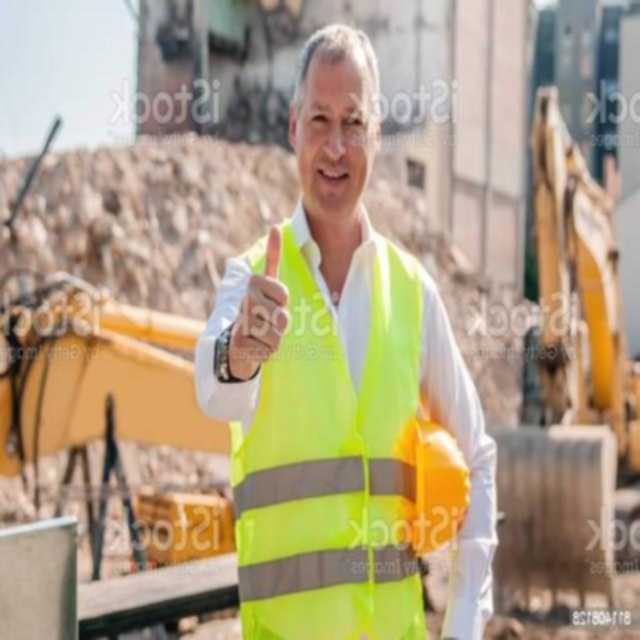goggles: (254, 95, 349, 154)
helmet: (172, 408, 226, 555)
vest: (208, 221, 402, 640)
